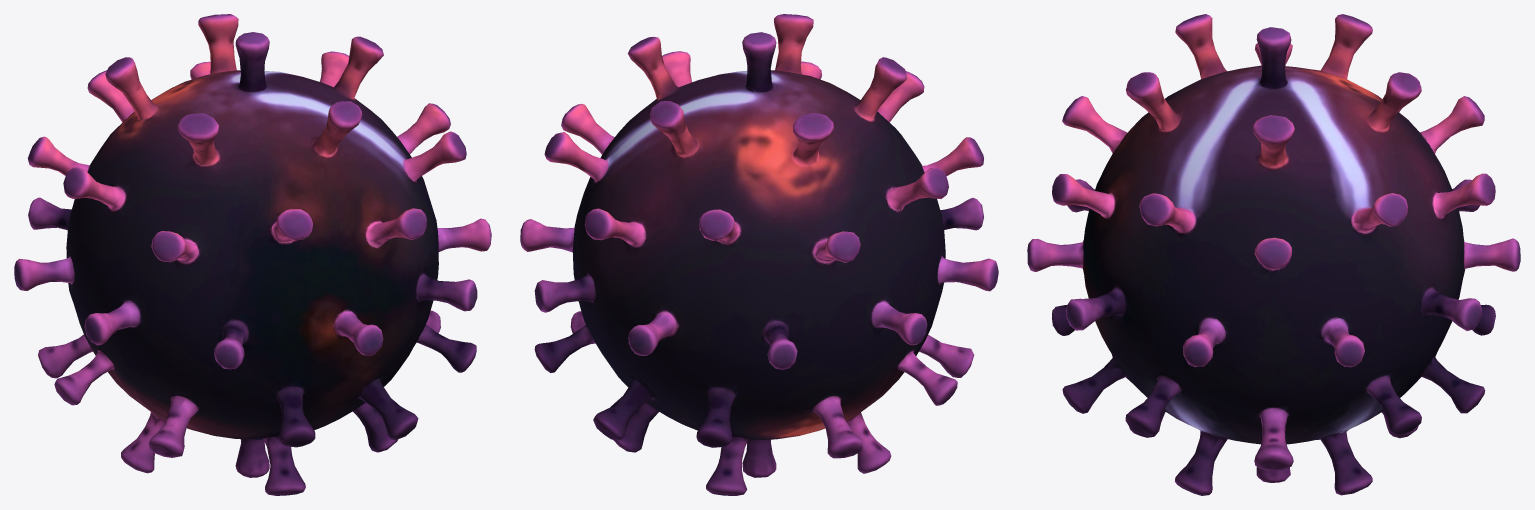
Rendered from specimen.glb.
3 views of the same model, side by side, from view 1: azimuth 30°, elevation 25°; view 2: azimuth 150°, elevation 25°; view 3: azimuth 270°, elevation 25° (orthographic). The views are drawn at different scales.
Visible parts, largest first — view 1: world; view 2: world; view 3: world.
Part boxes in pixels (box(x1,y1,x2,y2)): world: box(14, 14, 491, 495); world: box(520, 14, 998, 495); world: box(1027, 14, 1520, 495).
Size of the model in its own units: 0.963 by 1 by 1.
1 material, 1 textured.
